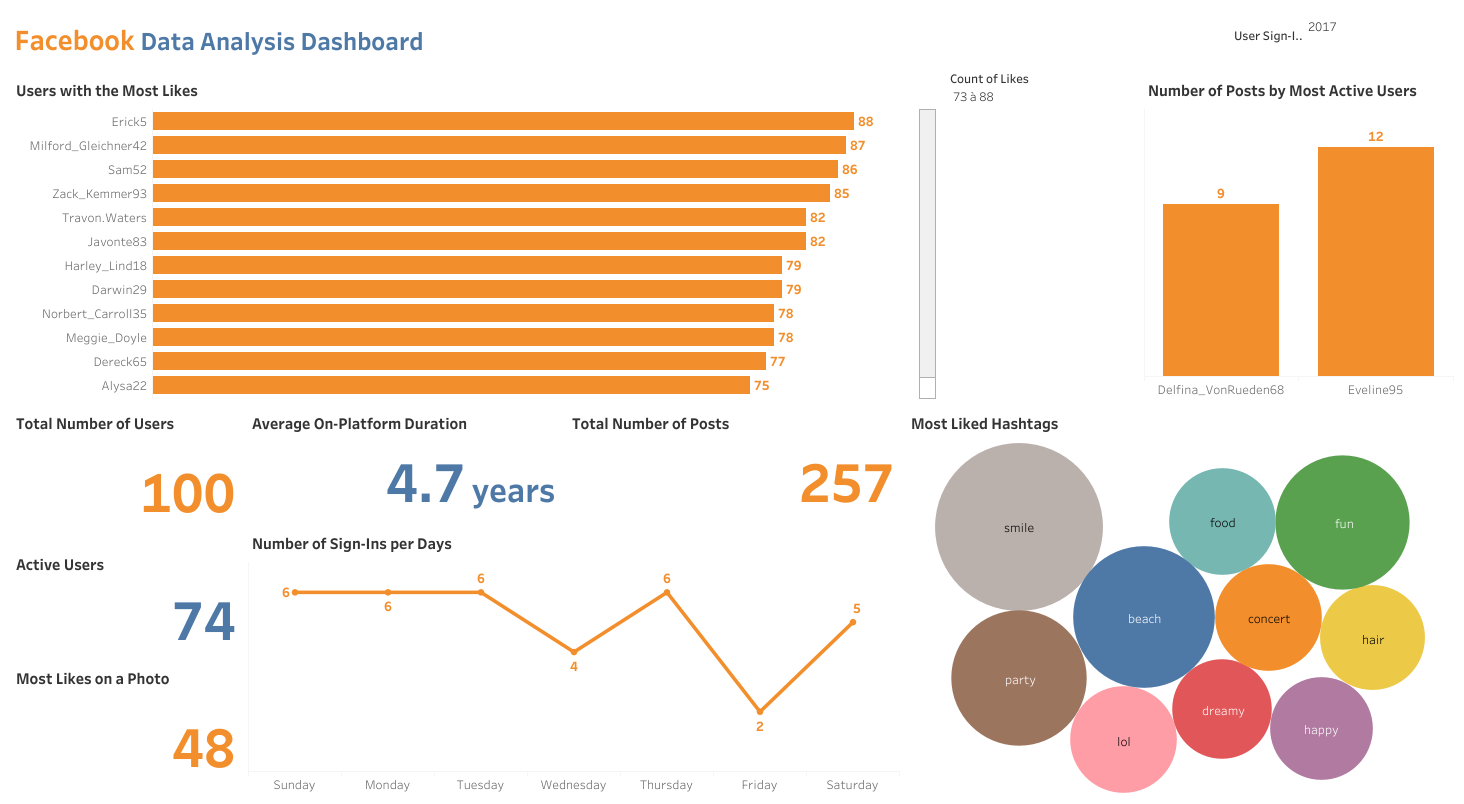

The dashboard page shown, as its layout file describes it:
{"tool":"tableau","page":{"name":"Facebook Data Analysis Dashboard","canvas":[1000,1000],"units":"permille","ordinal":0},"visuals":[{"type":"text","box":[4.8,9.6,990.3,76.2]},{"type":"filter","title":"Users with the Most Likes","param":"[federated.1tmlemi0axo1rf1ch09v10kim07n].[yr:created_at:ok]","box":[842.5,20.9,145.8,43.6]},{"type":"filter","title":"Users with the Most Likes","param":"[federated.1tmlemi0axo1rf1ch09v10kim07n].[__tableau_internal_object_id__].[cnt:l","box":[648.8,84.2,131.6,415.2]},{"type":"worksheet","title":"Users with the Most Likes","mark":"Automatic","rows":["username"],"cols":["likes_A246AE1EEDEF4FADBA542D0DAC5E0B37"],"box":[4.8,85.9,637.3,414]},{"type":"blank","box":[642.1,85.9,136.4,414]},{"type":"worksheet","title":"Number of Posts by Most Active Users","mark":"Automatic","rows":["Number of Posts"],"cols":["Username"],"box":[778.5,85.9,216.6,414]},{"type":"worksheet","title":"Total Number of Users","mark":"Automatic","box":[4.8,499.9,161.4,174.5]},{"type":"worksheet","title":"Average On-Platform Duration","mark":"Automatic","box":[166.2,499.9,218.4,148.6]},{"type":"worksheet","title":"Total Number of Posts","mark":"Automatic","box":[384.7,499.9,231.6,148.6]},{"type":"worksheet","title":"Most Liked Hashtags","mark":"Circle","box":[616.2,499.9,378.9,490.5]},{"type":"worksheet","title":"Number of Sign-Ins per Days","mark":"Line","rows":["users_1404DCAD4AD64924A129B7C57C4A9E74"],"cols":["Calculation_378302414733533189"],"box":[166.2,648.5,450,341.9]},{"type":"worksheet","title":"Active Users","mark":"Automatic","box":[4.8,674.4,161.4,142.5]},{"type":"worksheet","title":"Most Likes on a Photo","mark":"Automatic","box":[4.8,816.9,161.4,173.5]}]}

Visuals, with their boxes on the dashboard's canvas, which has no fixed pixel size, in thousandths of its width and height (x1, y1, x2, y2). These are canvas units, not pixel positions in the 1464x804 screenshot, which may show the page scaled, cropped or inside an application window:
text: bbox=[5, 10, 995, 86]
"Users with the Most Likes" filter: bbox=[842, 21, 988, 64]
"Users with the Most Likes" filter: bbox=[649, 84, 780, 499]
"Users with the Most Likes" worksheet: bbox=[5, 86, 642, 500]
blank: bbox=[642, 86, 778, 500]
"Number of Posts by Most Active Users" worksheet: bbox=[778, 86, 995, 500]
"Total Number of Users" worksheet: bbox=[5, 500, 166, 674]
"Average On-Platform Duration" worksheet: bbox=[166, 500, 385, 648]
"Total Number of Posts" worksheet: bbox=[385, 500, 616, 648]
"Most Liked Hashtags" worksheet (Circle marks): bbox=[616, 500, 995, 990]
"Number of Sign-Ins per Days" worksheet (Line marks): bbox=[166, 648, 616, 990]
"Active Users" worksheet: bbox=[5, 674, 166, 817]
"Most Likes on a Photo" worksheet: bbox=[5, 817, 166, 990]
